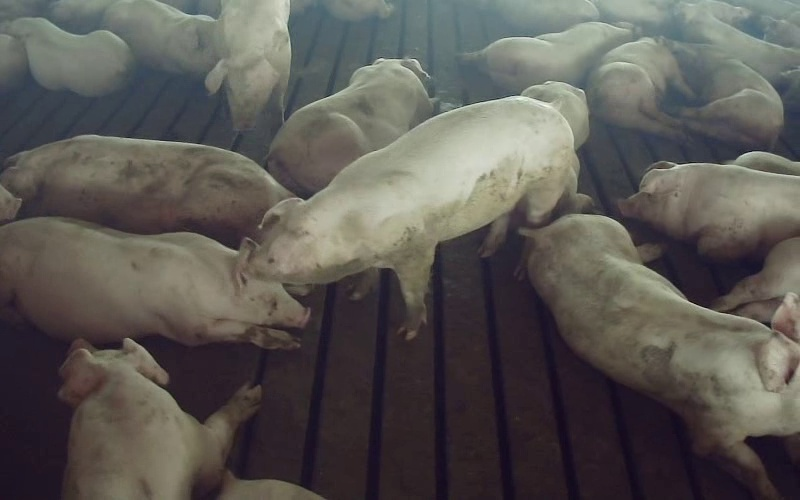pig: (247, 96, 578, 338), (523, 214, 799, 499), (0, 135, 292, 246), (59, 339, 260, 499), (267, 59, 432, 195), (619, 162, 799, 260), (668, 41, 782, 148), (459, 22, 632, 92), (205, 0, 290, 129), (586, 38, 693, 138), (7, 18, 134, 95), (103, 0, 218, 75)
